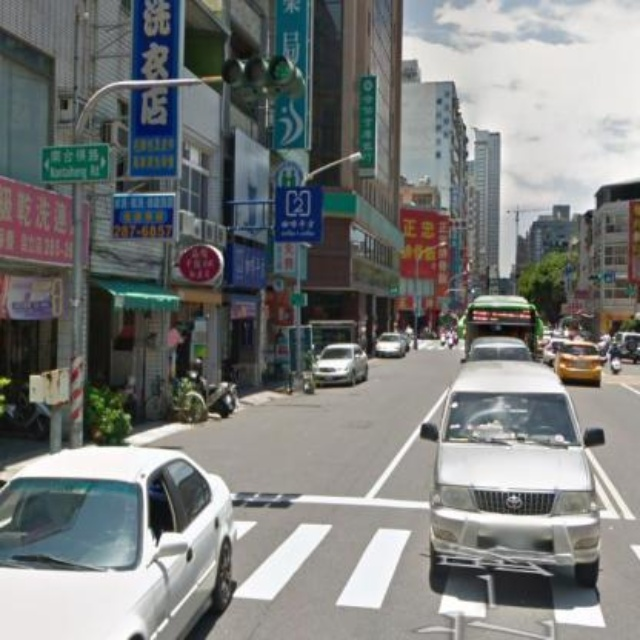Đèn xanh: (220, 57, 305, 91)
